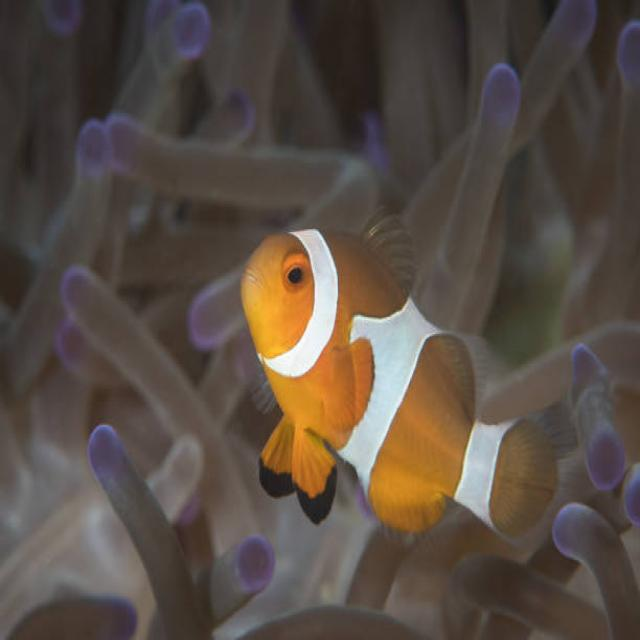ClownFish: (236, 207, 573, 568)
